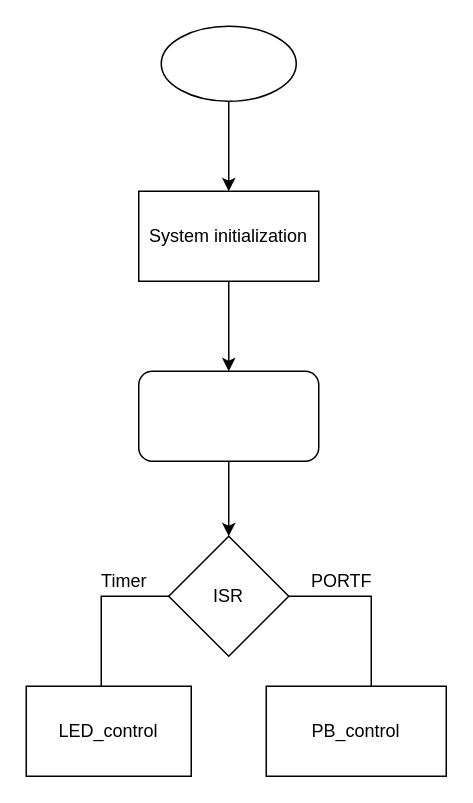
This 473x803 diagram has some shape labels left out. Each missing label, with the centre of its shape:
"Start" belongs at (228,63).
"Super loop" belongs at (228,415).
